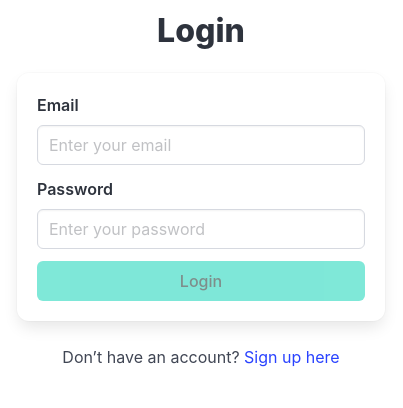
LoginPage Component › displays an error message if login fails
Type "wrong@example.com" into the field labelled "Email" at (201, 145), box [37,125,365,165]
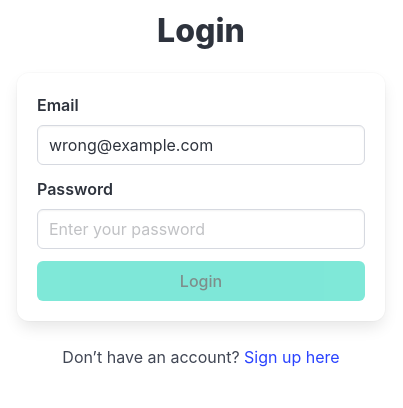
Type "wrongpassword" into the password field labelled "Password" at (201, 229), box [37,209,365,249]
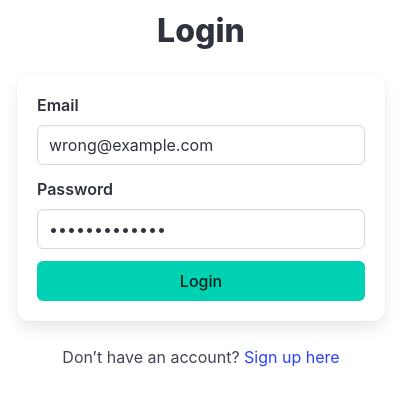
Click the button "Login" at (201, 281), box [37,261,365,301]
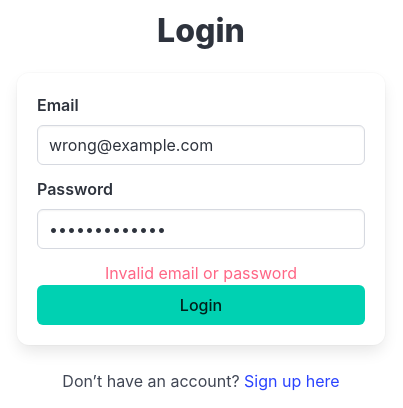
Now the message reads "Invalid email or password", box [105,263,297,283]
